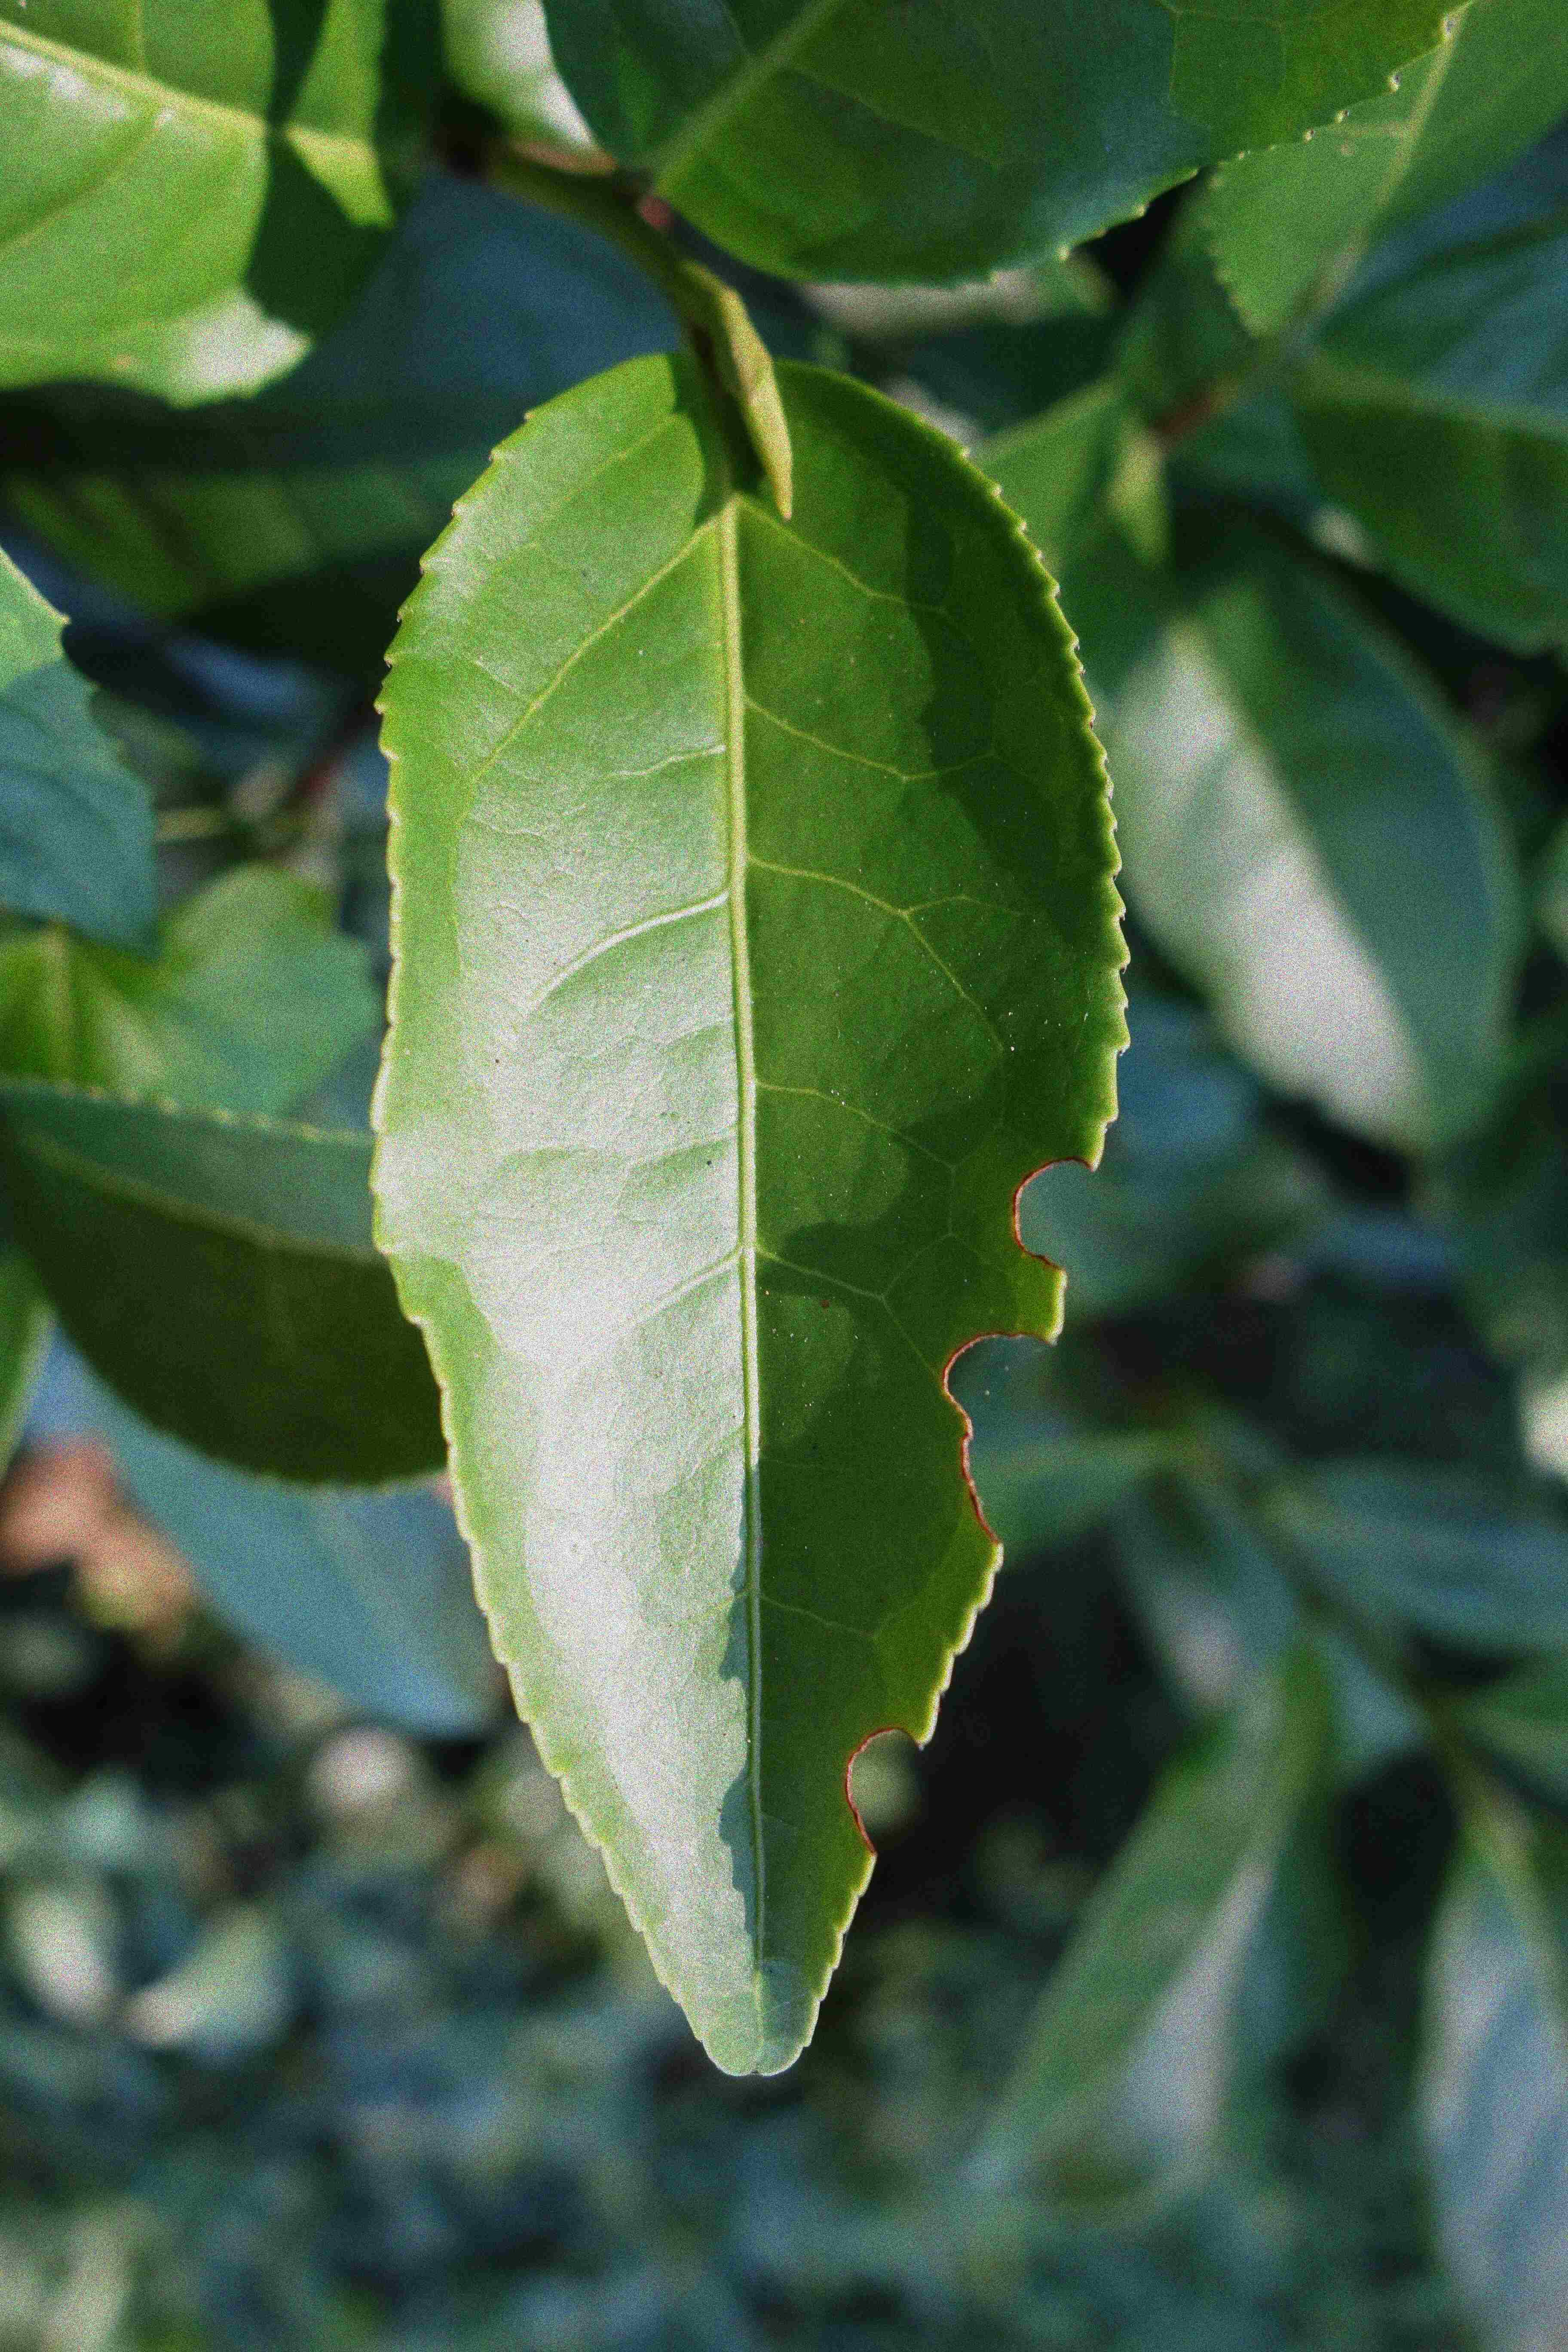chihuo_high: (352, 341, 1141, 2079)
